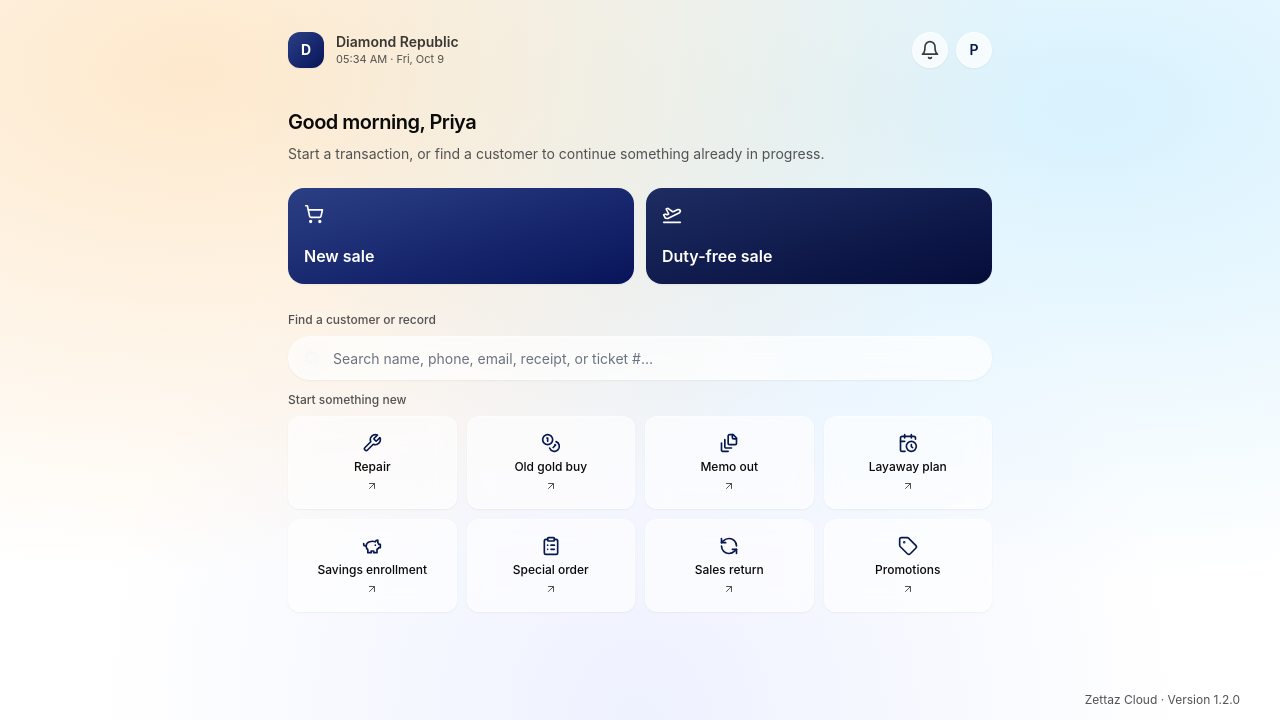
it: SalesHubPage › Duty-Free intake › blocks "Continue to Sale" until traveller details are complete, even with a customer selected
Click the button "Duty-free sale": [717, 256] box [646, 188, 992, 284]
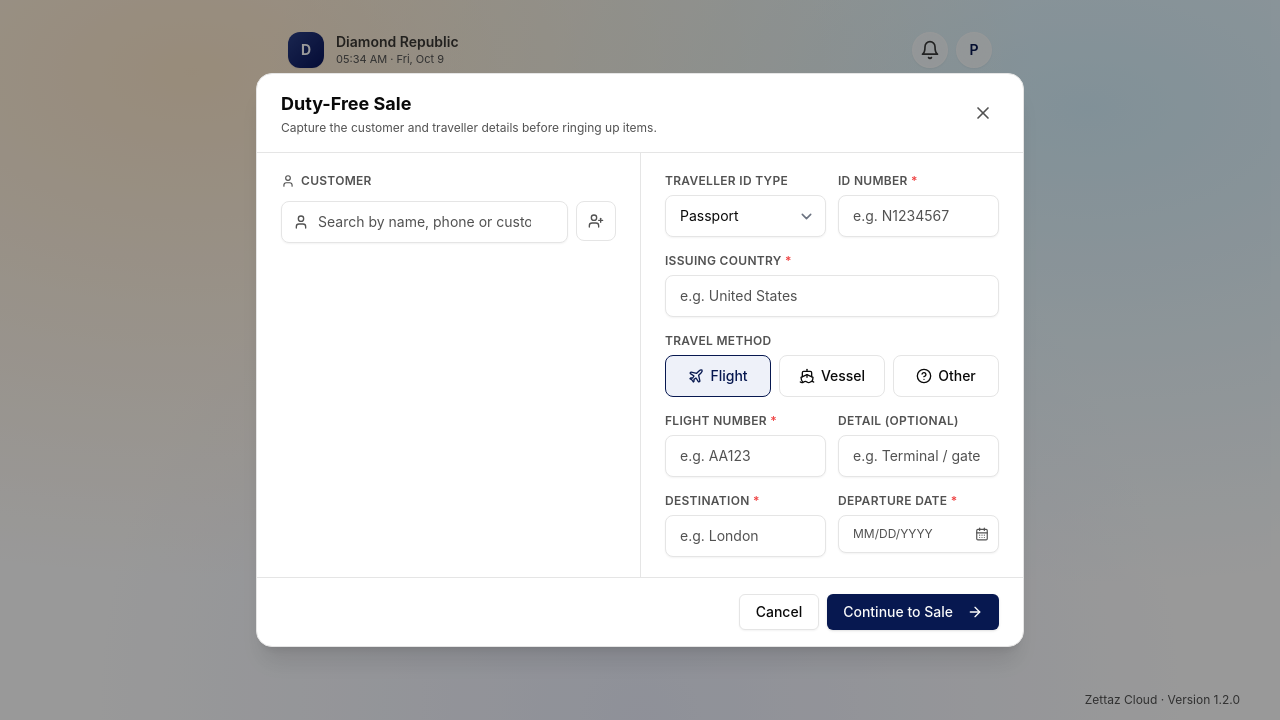
Click the button titled "Add new customer": [596, 221] box [576, 201, 616, 241]
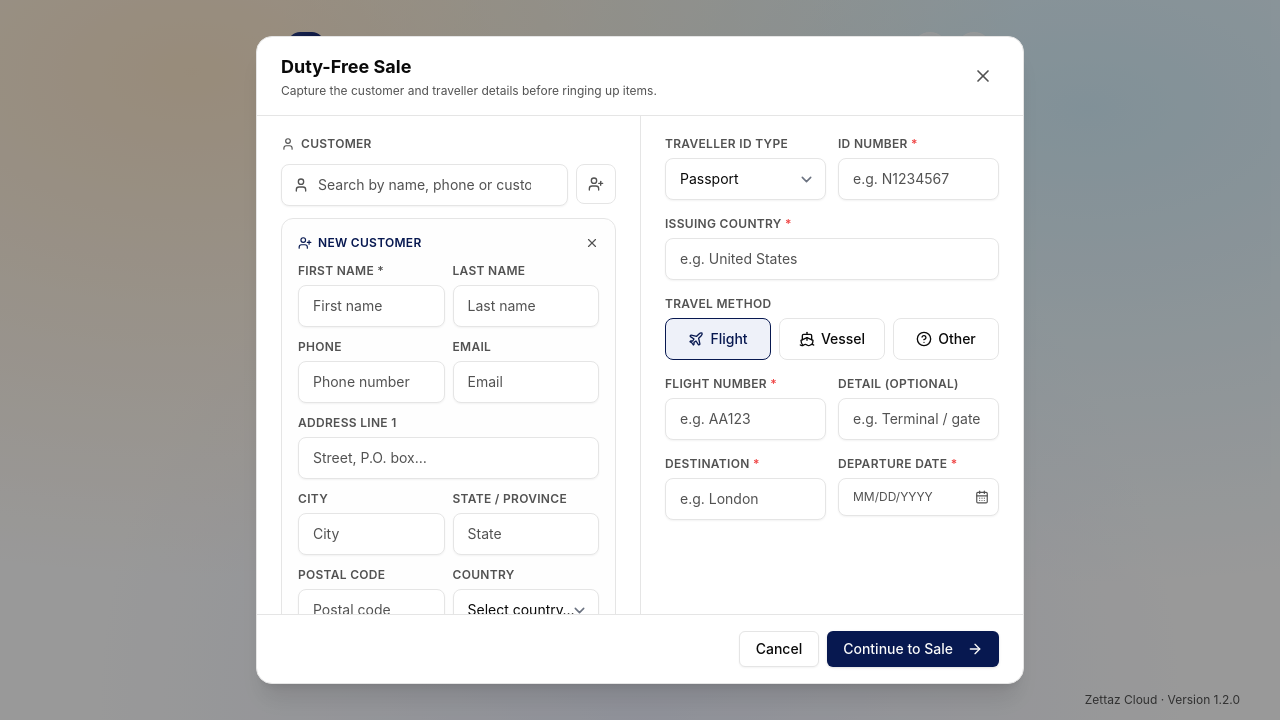
In the field with placeholder "First name": [371, 306] box [298, 285, 444, 327], type "Alex"
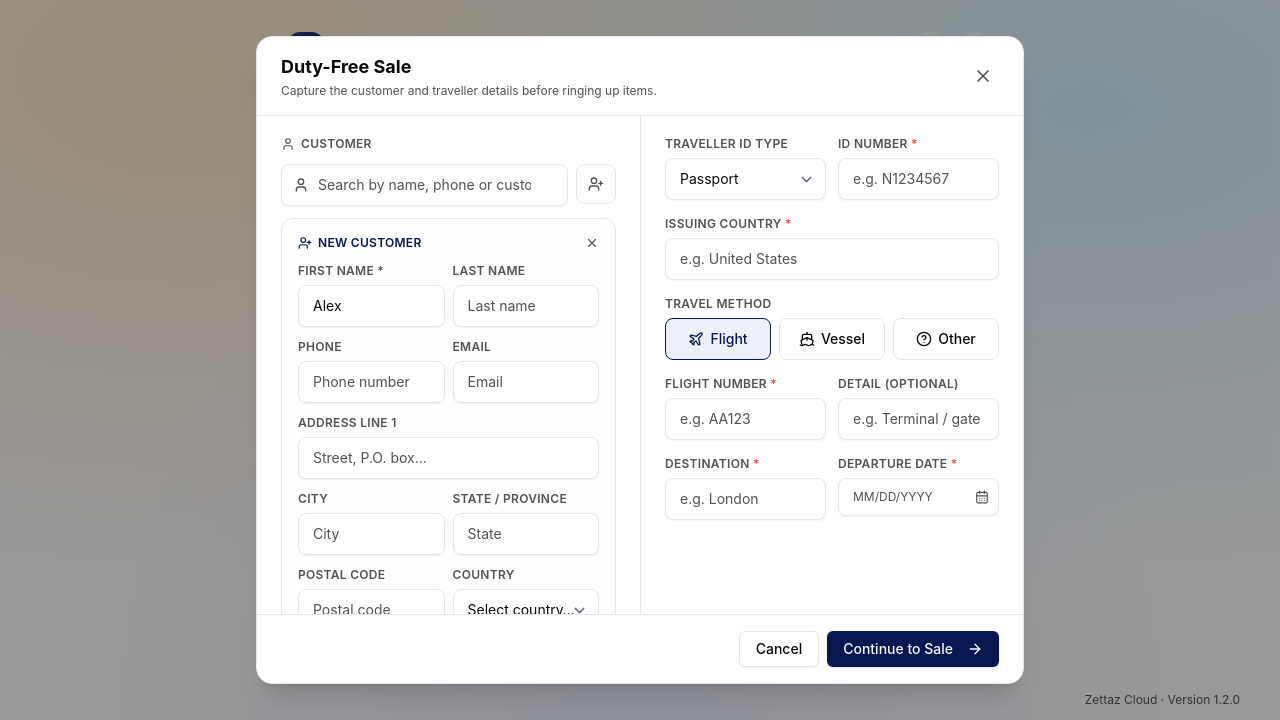
Click the button "Continue to Sale": [913, 649] box [827, 631, 999, 667]
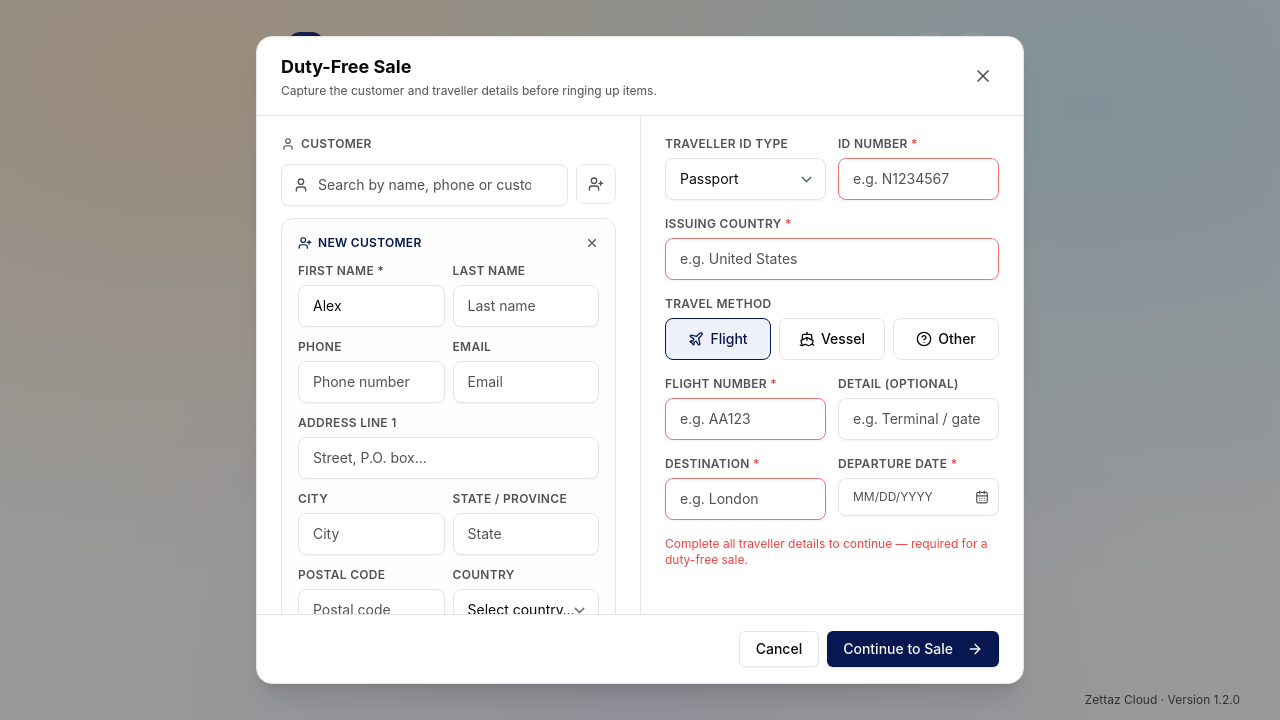
Check: the text "Complete all traveller details to continue" is shown, box [665, 536, 988, 567]
